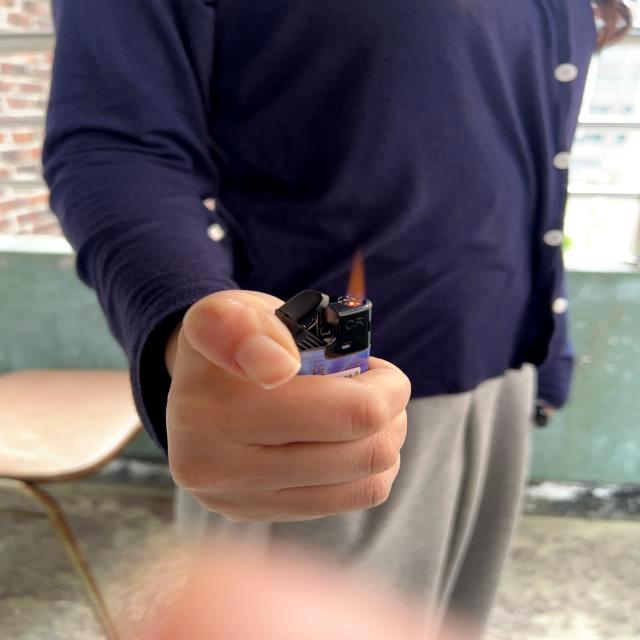fire: (342, 251, 370, 305)
